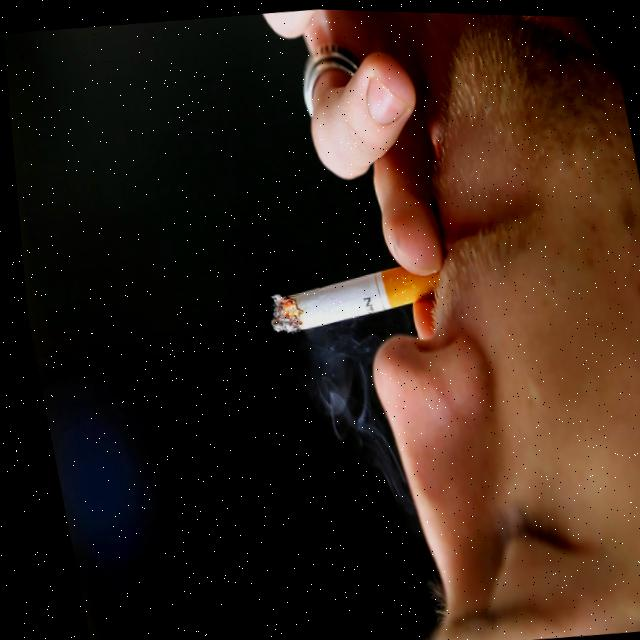cigarette: (269, 264, 436, 329)
